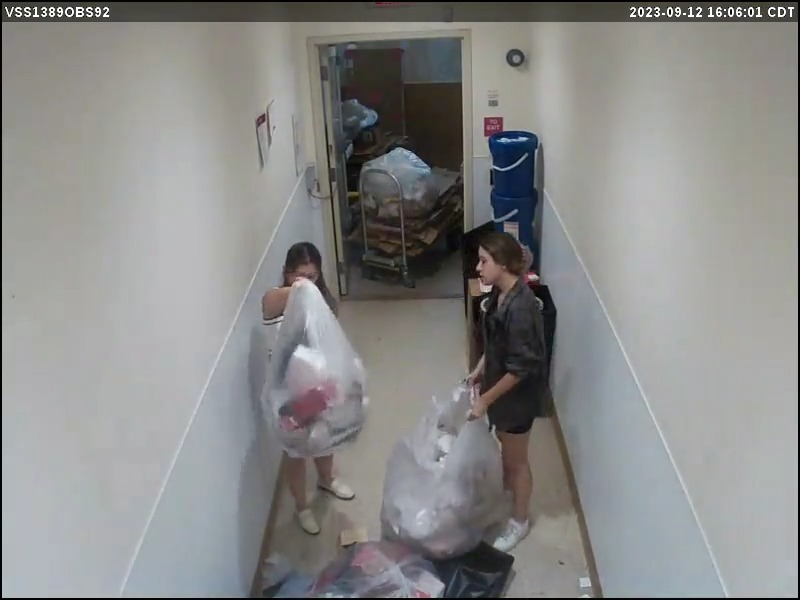No-gloves: (469, 391, 495, 427), (462, 364, 491, 389)
